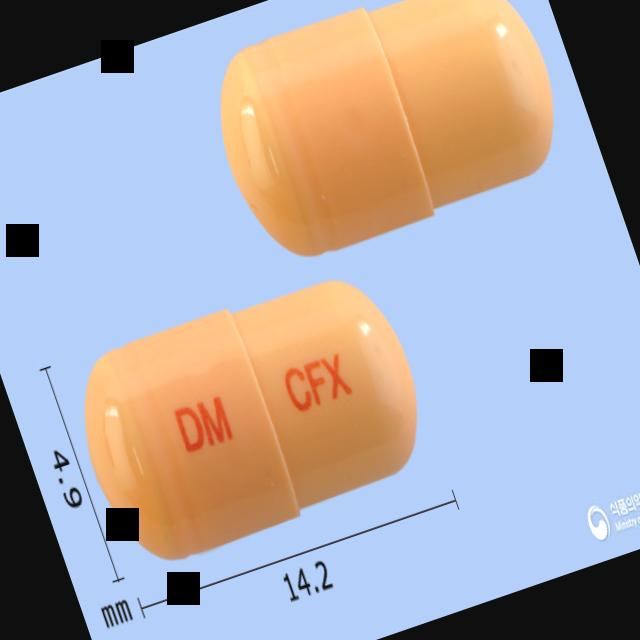Fixima: (57, 256, 444, 574)
